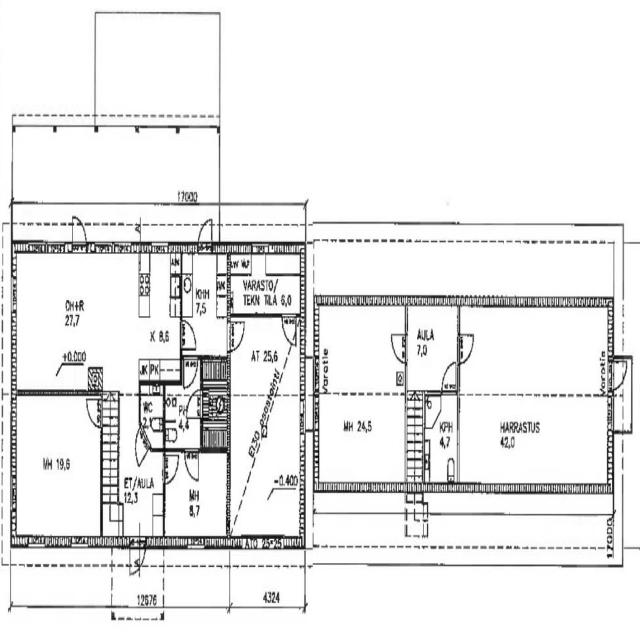door: (165, 446, 201, 484), (84, 390, 103, 429), (180, 314, 198, 351), (610, 356, 628, 392), (440, 358, 459, 392), (424, 390, 441, 428), (390, 329, 408, 363), (228, 317, 246, 351), (182, 353, 199, 388), (163, 448, 180, 483), (196, 215, 214, 248), (458, 330, 475, 364), (71, 212, 88, 246), (184, 446, 200, 481), (281, 311, 297, 344), (131, 542, 147, 572)
window: (9, 270, 17, 316), (149, 237, 170, 253), (455, 406, 461, 452)
zone: (11, 249, 161, 387), (229, 313, 303, 536), (316, 306, 406, 484), (11, 390, 103, 542), (165, 448, 229, 541), (137, 249, 181, 378), (180, 250, 228, 350), (230, 251, 304, 314), (405, 306, 458, 392), (424, 390, 458, 484), (163, 382, 200, 448), (201, 386, 230, 448), (139, 381, 165, 436), (201, 358, 230, 388)
